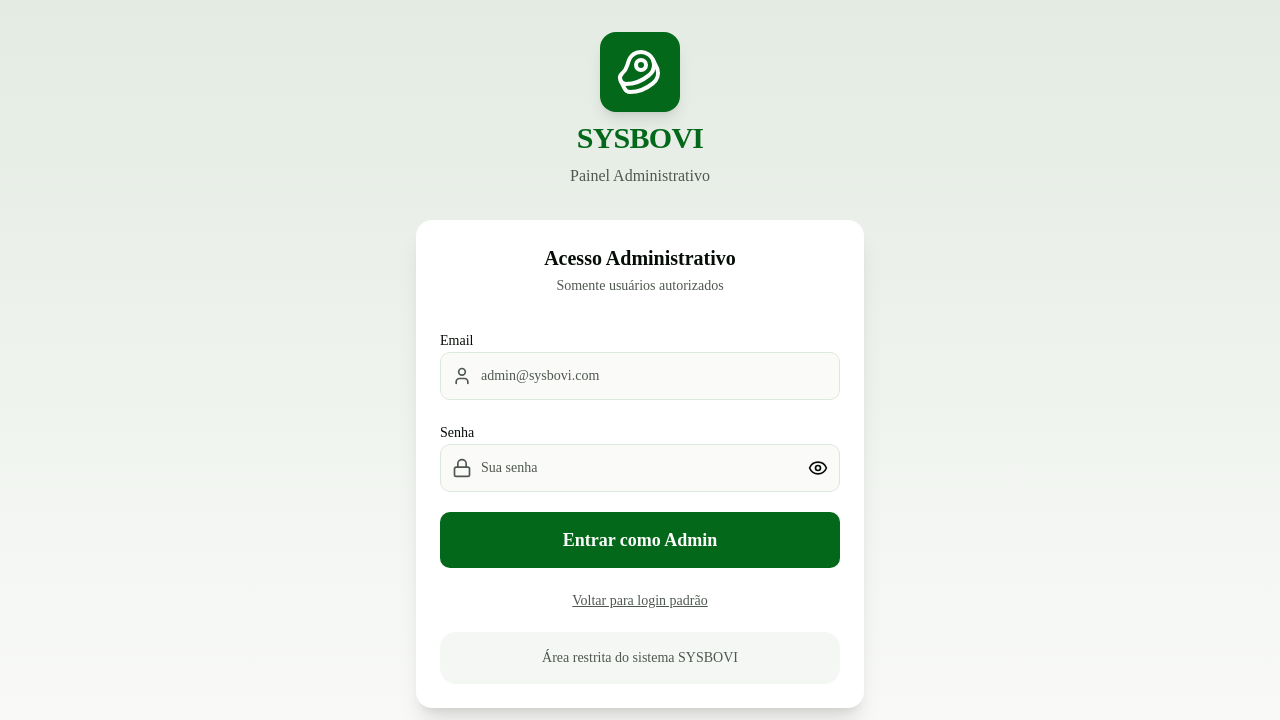
Test case: AdminLoginPage — validação de formulário › exibe erro de formato para email inválido
Type "email-invalido" into the field labelled "Email" at (640, 376), box [440,352,840,400]
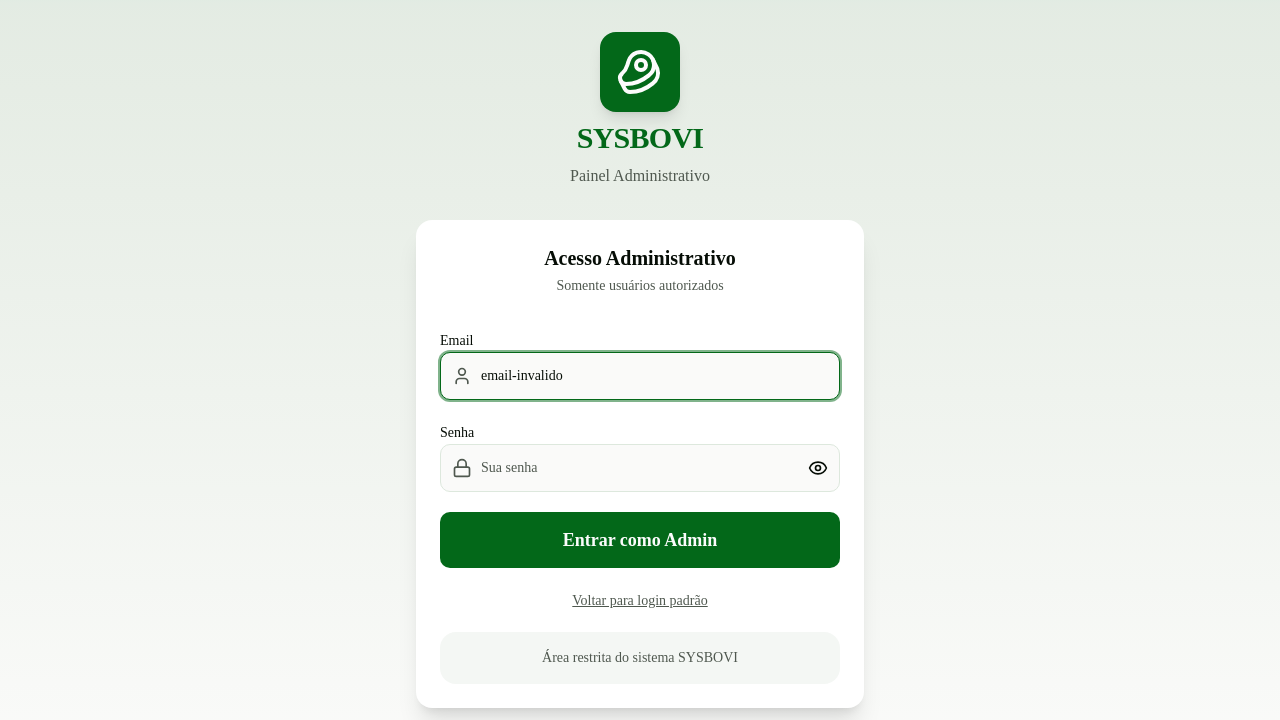
Type "abc" into the password field labelled "Senha" at (640, 468), box [440,444,840,492]
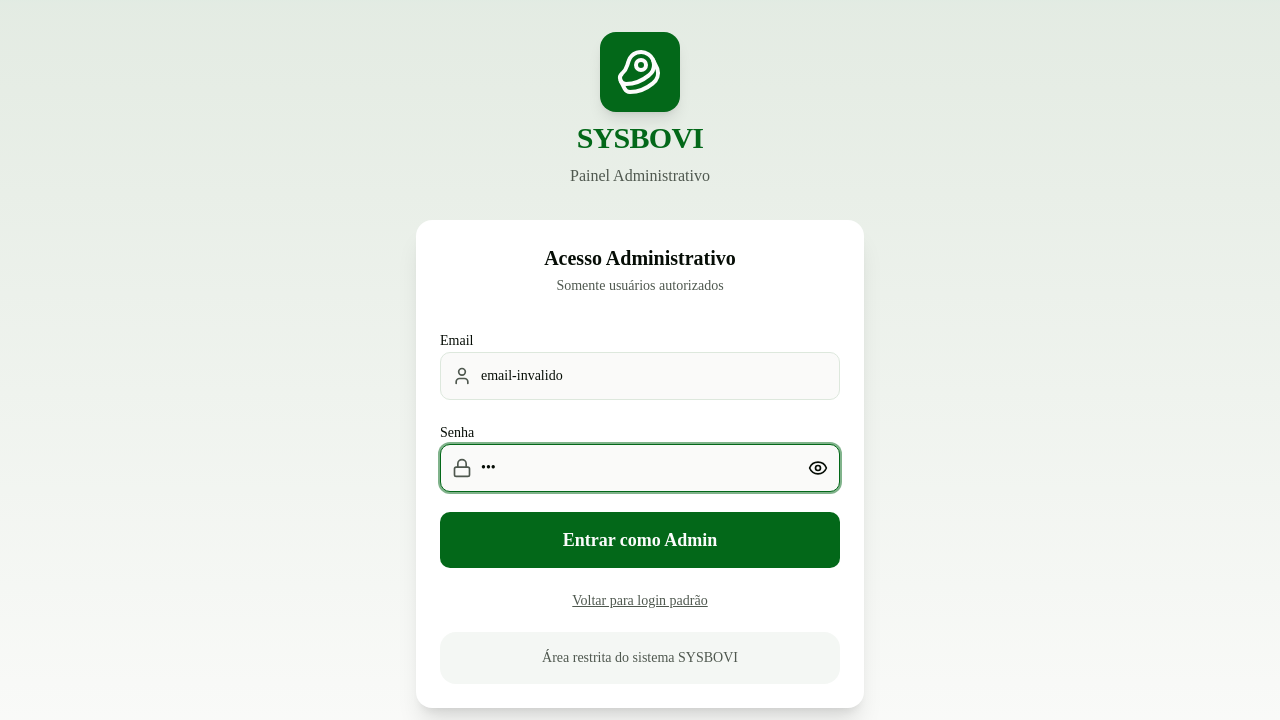
Click the button "Entrar como Admin" at (640, 540), box [440,512,840,568]
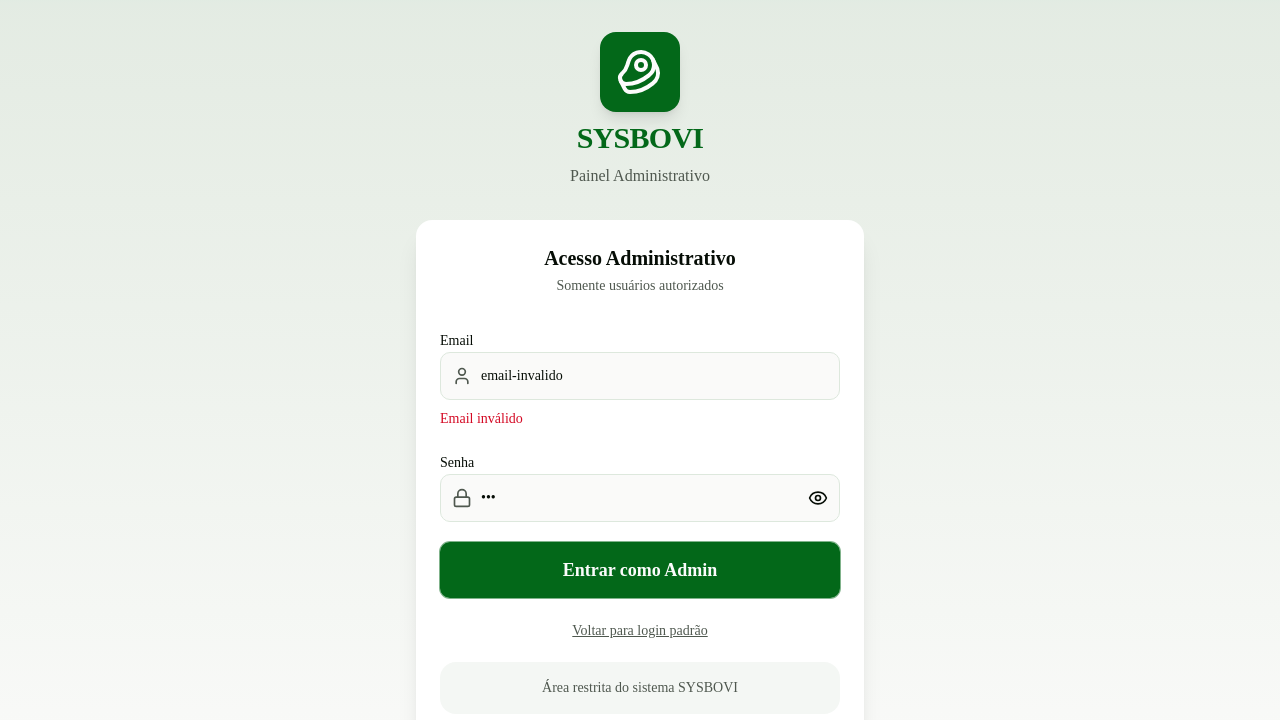
Now the text "Email inválido" is shown, box [440,411,523,426]
